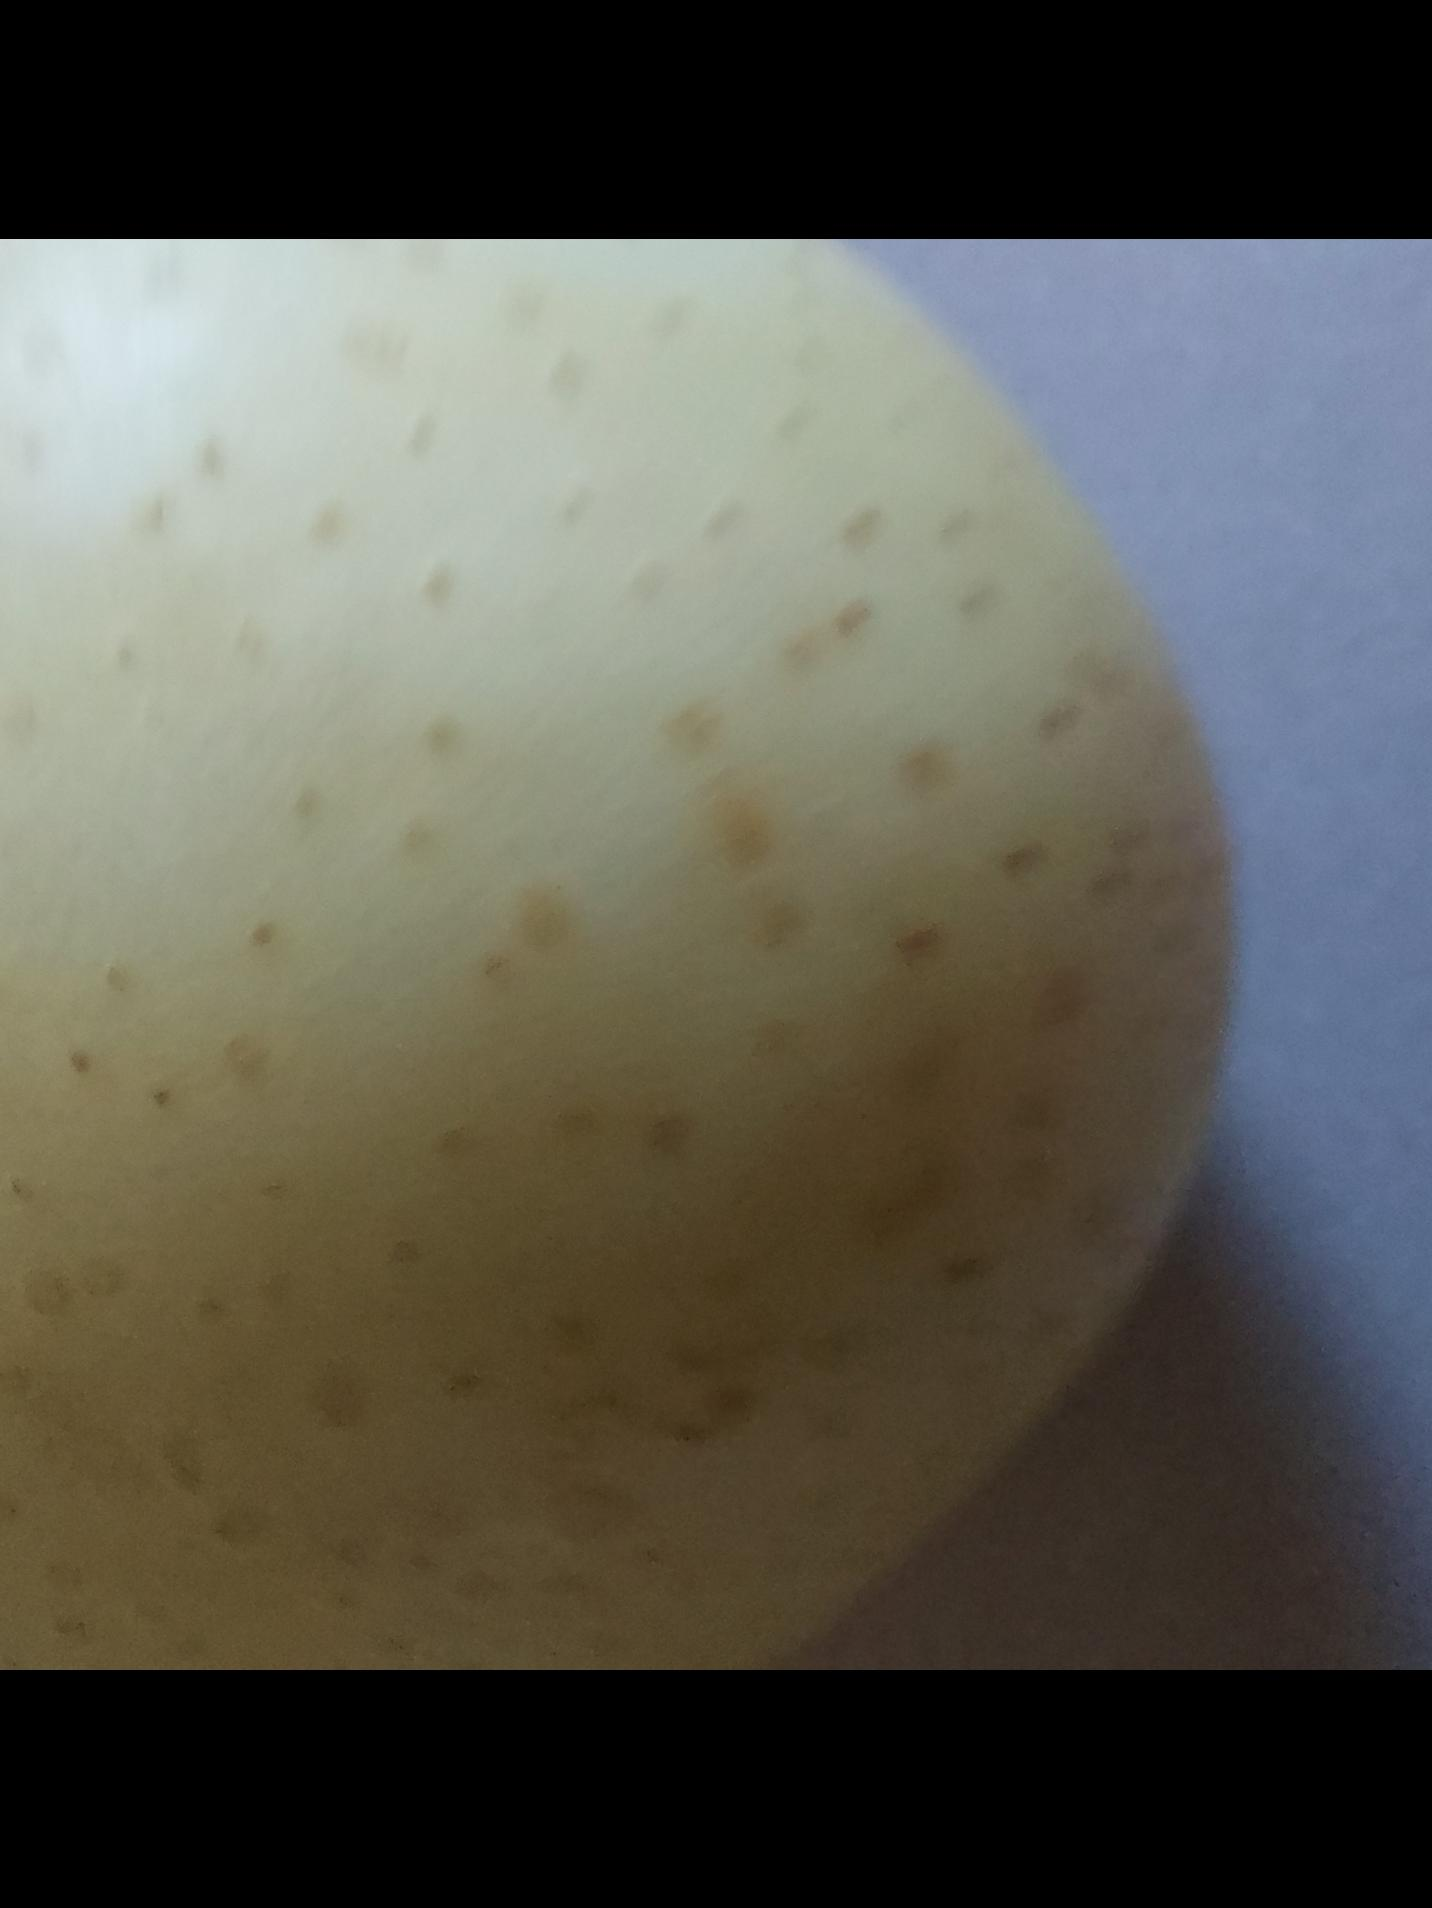Good Pear: (0, 238, 1397, 1670)
